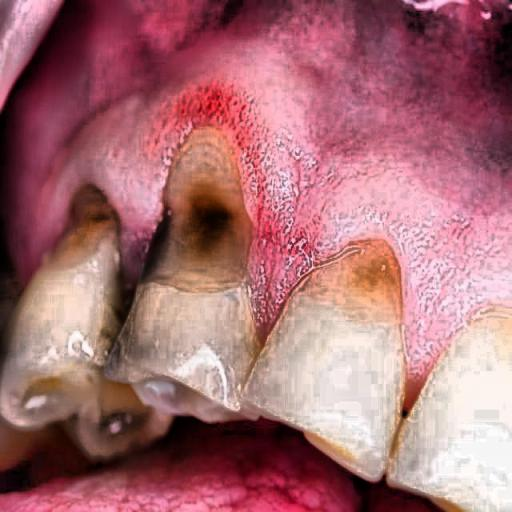Caries: (146, 147, 270, 296), (295, 221, 407, 321), (29, 159, 128, 265)
